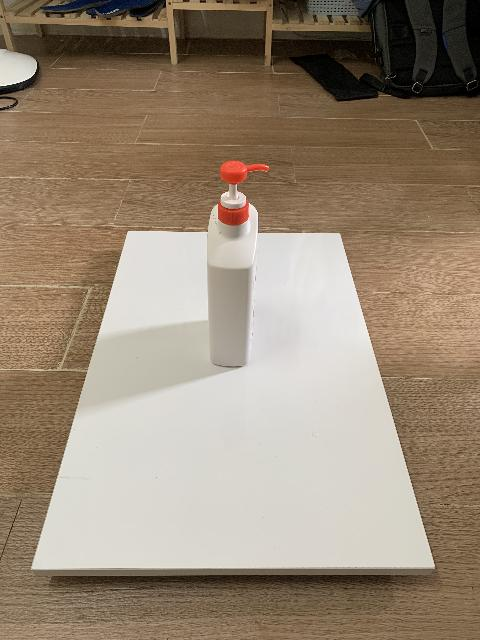life-buoy: (207, 161, 269, 369)
